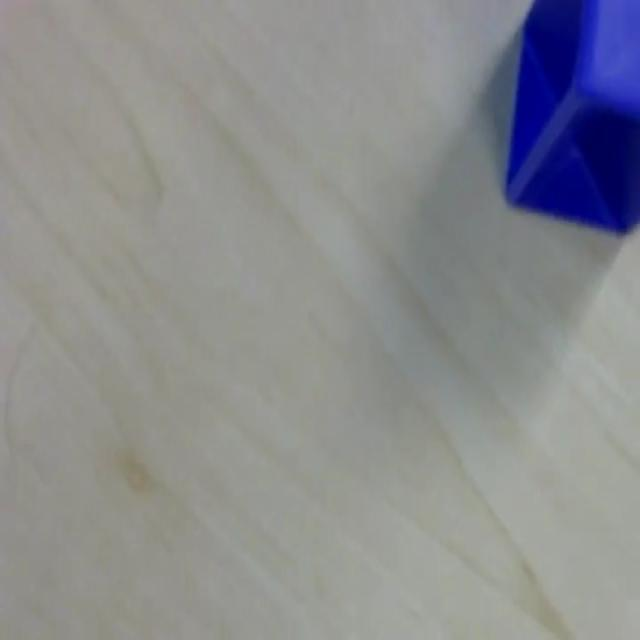blue_block: (502, 0, 638, 233)
